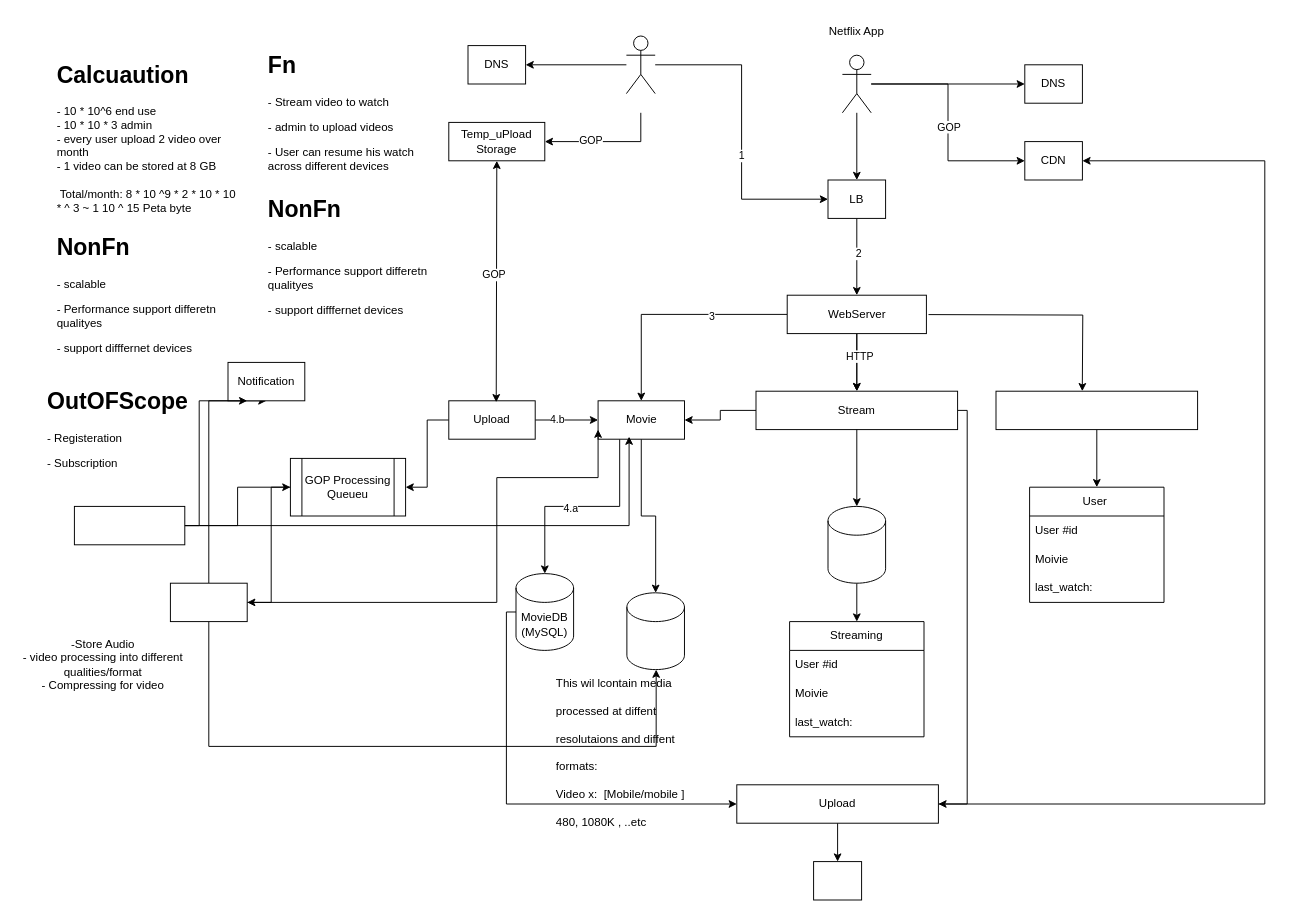
The diagram is 1289 pixels wide and 917 high, and some of its shapes have lost their labels. Here are the shapes that lost their labels. From the top down, the centre of each, then its label:
At point 640,64: "Actor".
At point 856,83: "TV/Mobile/Browser".
At point 1096,410: "User managment".
At point 129,525: "Filteration Copywrite/sexual/..etc".
At point 856,544: "MySQL".
At point 208,602: "Processing".
At point 655,631: "Object Store".
At point 837,880: "ML".
